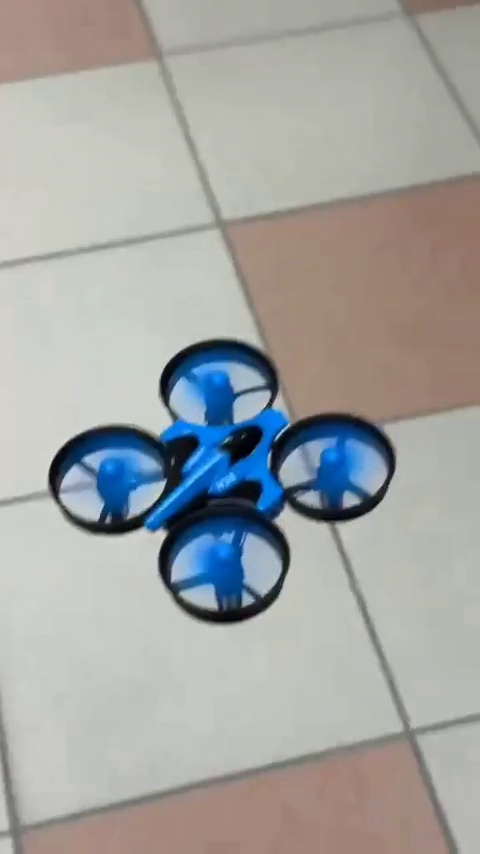drone: (48, 349, 394, 622)
